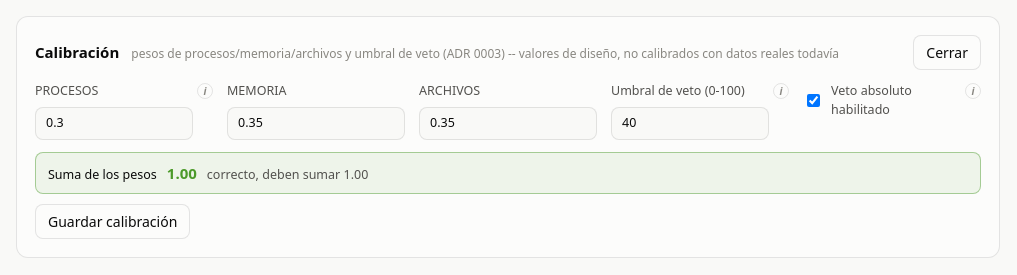
Test case: CalibracionPanel › avisa cuanto FALTA cuando la suma se queda corta
Replace the text in the number field labelled "PROCESOS" with "0.1" at (114, 123), box x1=35 y1=107 x2=193 y2=140
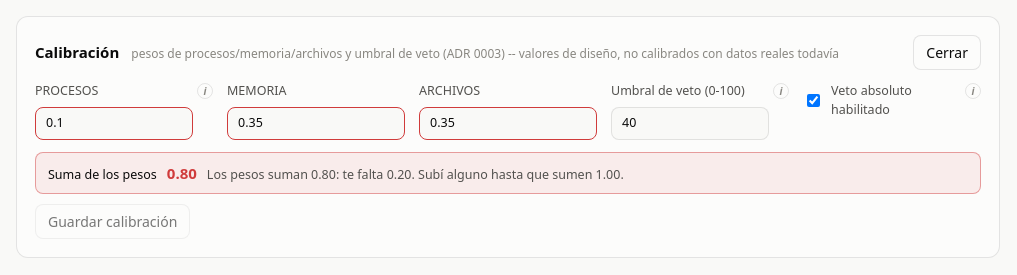
Now the text "te falta 0.20" is shown, box x1=207 y1=166 x2=624 y2=182
